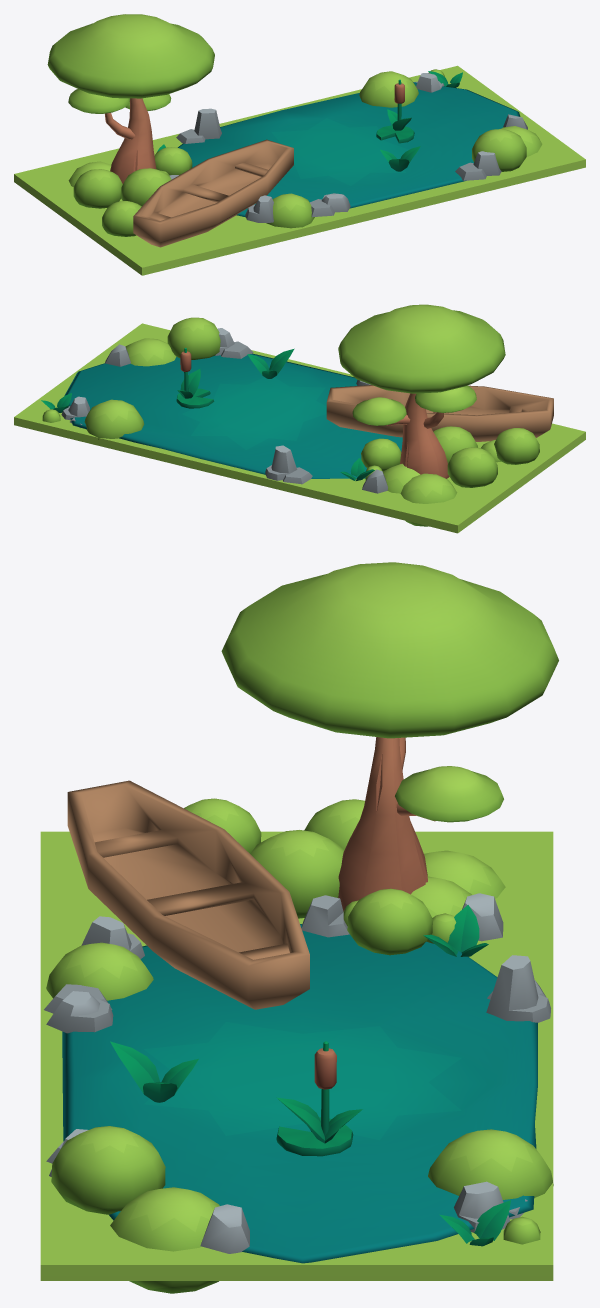
The model's file is boat.glb.
3 views of the same model, one above another, from view 1: azimuth 30°, elevation 25°; view 2: azimuth 150°, elevation 25°; view 3: azimuth 270°, elevation 25° (orthographic). The views are drawn at different scales.
Visible parts, largest first — view 1: Boat; view 2: Boat; view 3: Boat.
Boxes of the visible parts, x1,y1,x2,y2 form: Boat: (14,14,585,275); Boat: (14,304,585,533); Boat: (40,562,558,1293).
Size of the model in its own units: 0.58 by 0.2345 by 0.2933.
3 materials, 3 textured.
